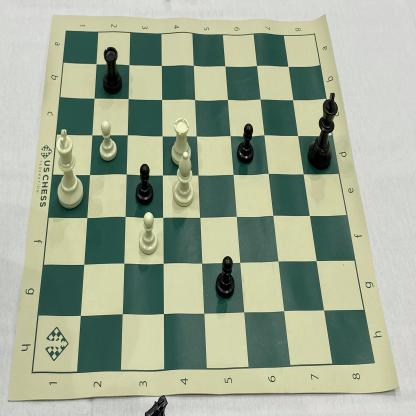black-king: (304, 90, 340, 171)
black-pawn: (214, 250, 238, 301), (133, 160, 155, 206), (235, 118, 256, 166)
black-rook: (101, 42, 125, 98)
white-bishop: (170, 149, 198, 210)
white-king: (53, 124, 87, 213)
white-pawn: (134, 208, 160, 258), (97, 117, 119, 163)
white-rook: (168, 114, 194, 170)
